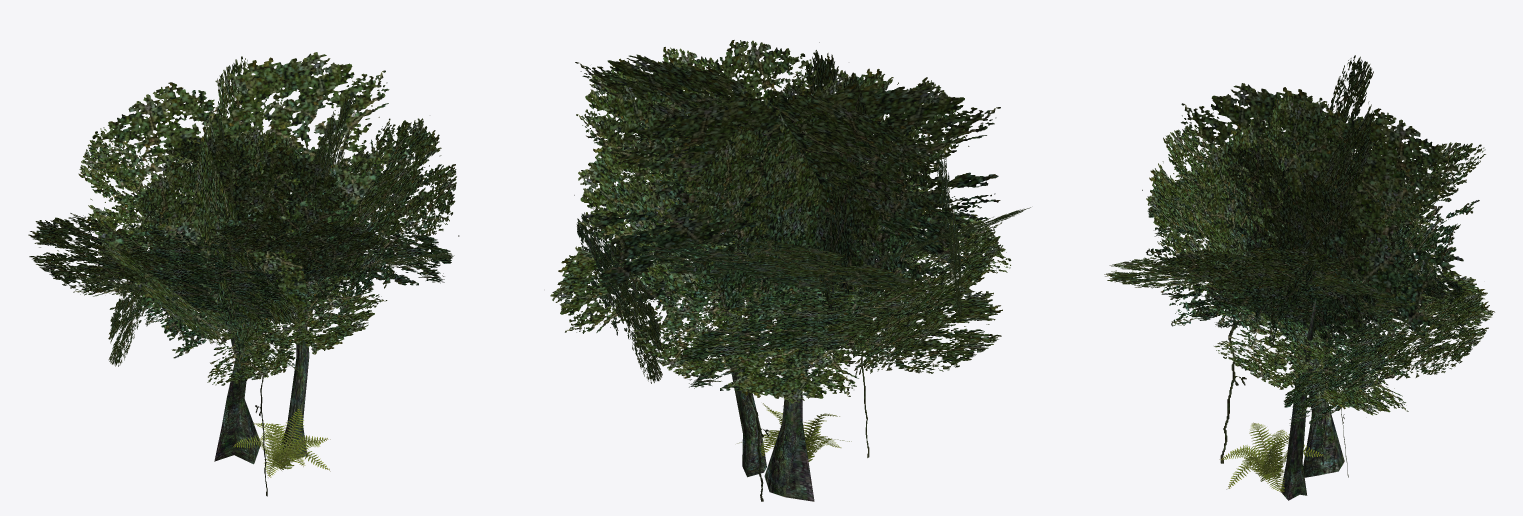
3 views of the same model, side by side, from view 1: azimuth 30°, elevation 25°; view 2: azimuth 150°, elevation 25°; view 3: azimuth 270°, elevation 25° (orthographic). The views are drawn at different scales.
Visible parts, largest first — view 1: _TT04A; view 2: _TT04A; view 3: _TT04A.
Boxes of the visible parts, x1,y1,x2,y2 form: _TT04A: (28, 52, 459, 496); _TT04A: (550, 40, 1030, 501); _TT04A: (1104, 55, 1494, 500).
Size of the model in its own units: 12.16 by 11.39 by 11.1.
Materials: 4 (4 with a texture image).
